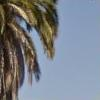Palm tree: (2, 3, 49, 96)
